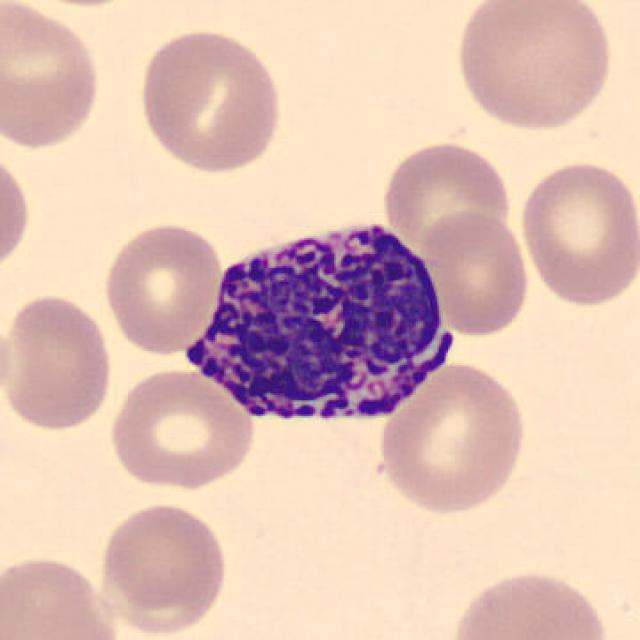Basophil: (174, 205, 464, 439)
RBC: (374, 358, 532, 518), (135, 23, 286, 176), (450, 0, 618, 134), (105, 365, 258, 492), (516, 155, 638, 310), (96, 497, 231, 635), (100, 217, 224, 356), (0, 289, 117, 433), (0, 0, 103, 153), (378, 138, 516, 252), (419, 206, 534, 338), (444, 564, 614, 640), (0, 552, 123, 640), (0, 145, 34, 282), (7, 0, 147, 12), (0, 305, 14, 421)
